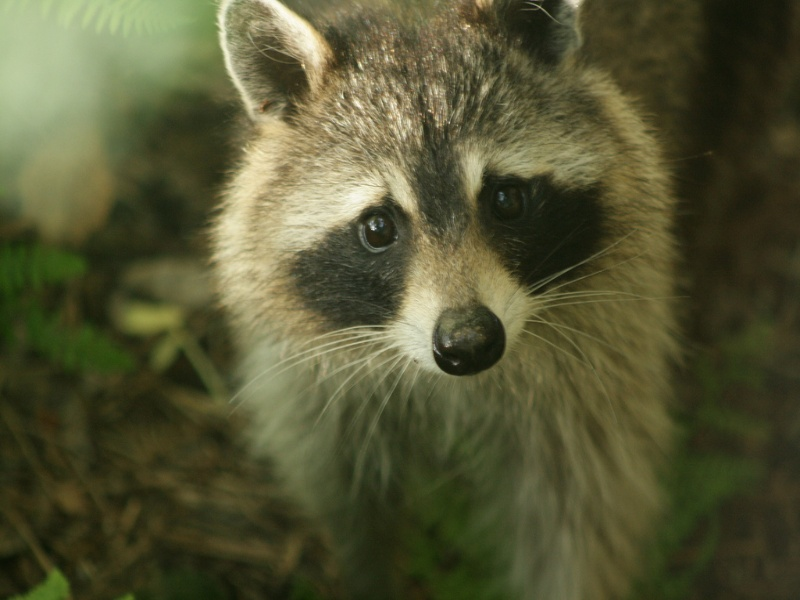raccoon: (194, 2, 684, 587)
